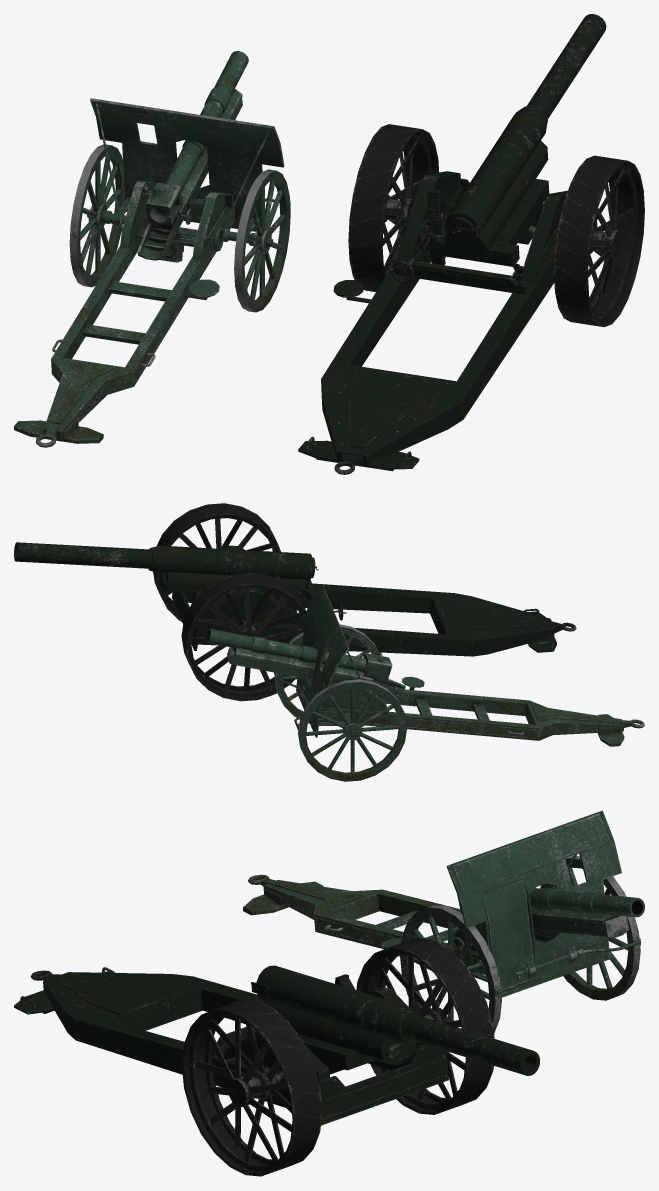
File: ww1_artillery.glb
3 views of the same model, one above another, from view 1: azimuth 30°, elevation 25°; view 2: azimuth 150°, elevation 25°; view 3: azimuth 270°, elevation 25° (orthographic). The views are drawn at different scales.
Visible parts, largest first — view 1: WW1_Artillery_V2_4, WW1_Artillery_V1_3; view 2: WW1_Artillery_V2_4, WW1_Artillery_V1_3; view 3: WW1_Artillery_V2_4, WW1_Artillery_V1_3.
Boxes of the visible parts, x1,y1,x2,y2 form: WW1_Artillery_V2_4: [298, 14, 644, 474]; WW1_Artillery_V1_3: [14, 51, 290, 447]; WW1_Artillery_V2_4: [14, 503, 576, 701]; WW1_Artillery_V1_3: [206, 585, 644, 781]; WW1_Artillery_V2_4: [14, 937, 539, 1176]; WW1_Artillery_V1_3: [243, 810, 644, 1032].
Bounding box in the file's own units: 7.35 × 1.79 × 5.58.
2 materials, 2 textured.
